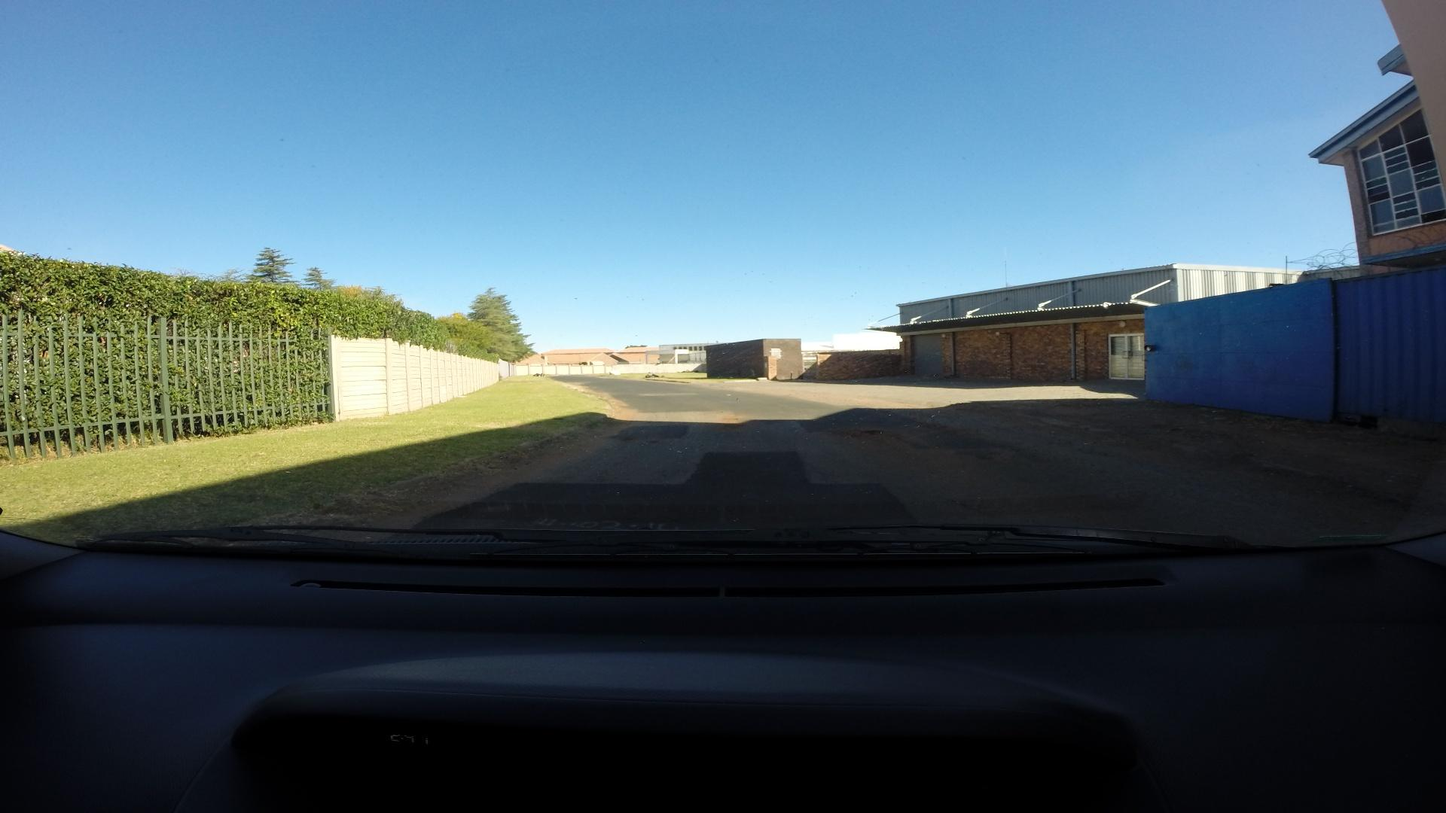pothole: (853, 430, 882, 434)
